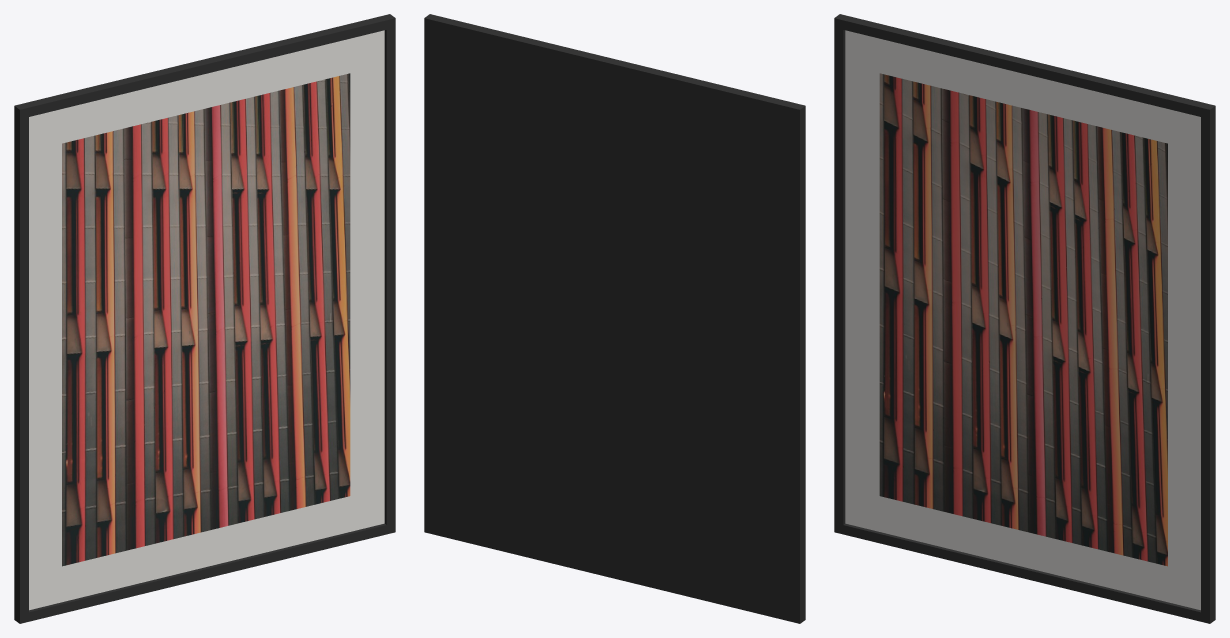
Rendered from fasaden-90.gltf.
The picture shows the model from 3 angles, left to right: view 1: azimuth 30°, elevation 25°; view 2: azimuth 150°, elevation 25°; view 3: azimuth 330°, elevation 25°; orthographic projection.
Visible parts, largest first — view 1: tavla; view 2: tavla; view 3: tavla.
Part boxes in pixels (x1,y1,x2,y2): tavla: [14, 14, 395, 623]; tavla: [424, 14, 805, 623]; tavla: [834, 14, 1215, 623].
Size of the model in its own units: 0.8372 by 1.09 by 0.022.
3 materials, 1 textured.
